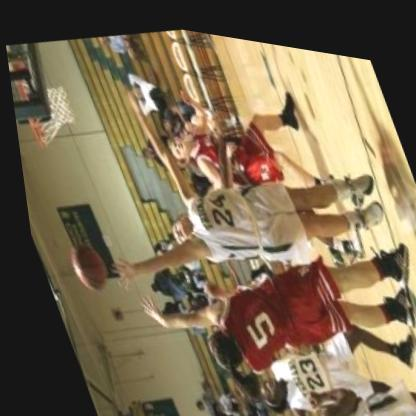basketball: (55, 234, 111, 297)
